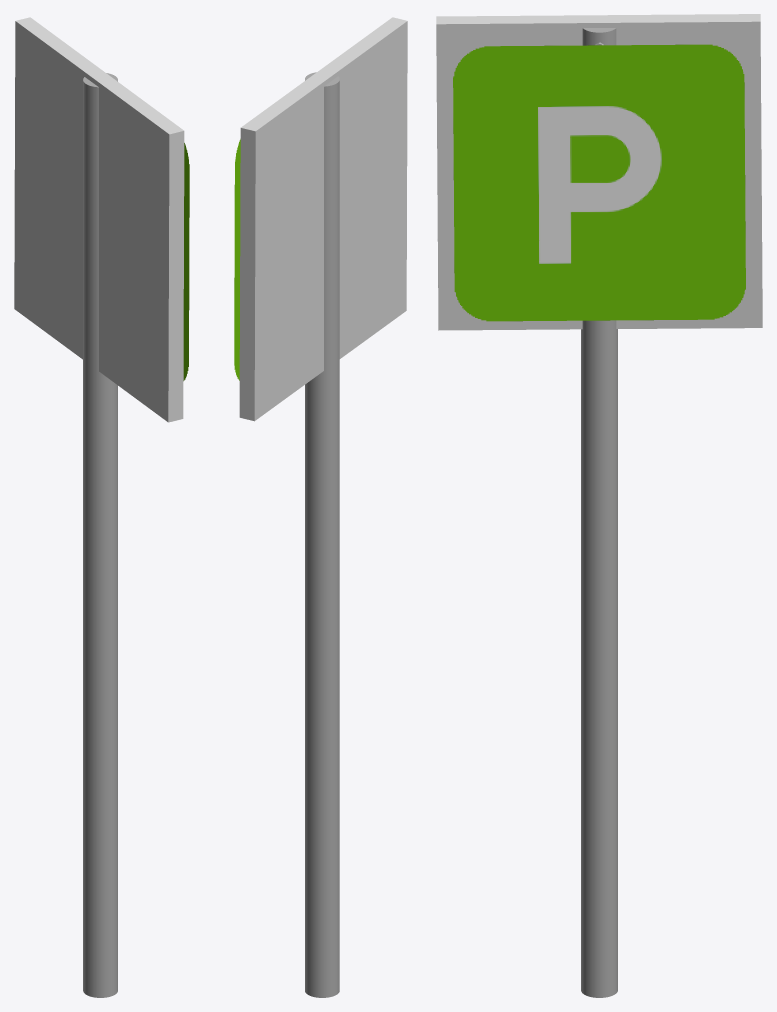
File: NewgreenParking.fbx
The picture shows the model from 3 angles, left to right: view 1: azimuth 30°, elevation 25°; view 2: azimuth 150°, elevation 25°; view 3: azimuth 270°, elevation 25°; orthographic projection. The views are drawn at different scales.
Visible parts, largest first — view 1: Plane.001, Cylinder, Plane; view 2: Plane.001, Cylinder, Plane; view 3: Plane, Cylinder, Plane.001.
Part boxes in pixels (x1=…): Plane.001: x1=14, y1=17, x2=184, y2=422; Cylinder: x1=83, y1=73, x2=117, y2=997; Plane: x1=183, y1=143, x2=189, y2=380; Plane.001: x1=239, y1=17, x2=407, y2=421; Cylinder: x1=305, y1=72, x2=339, y2=997; Plane: x1=234, y1=139, x2=240, y2=380; Plane: x1=453, y1=44, x2=745, y2=321; Cylinder: x1=581, y1=28, x2=617, y2=997; Plane.001: x1=436, y1=14, x2=762, y2=330.
Bounding box in the file's own units: 23.43 × 583 × 178.
Materials: 3 (1 with a texture image).
